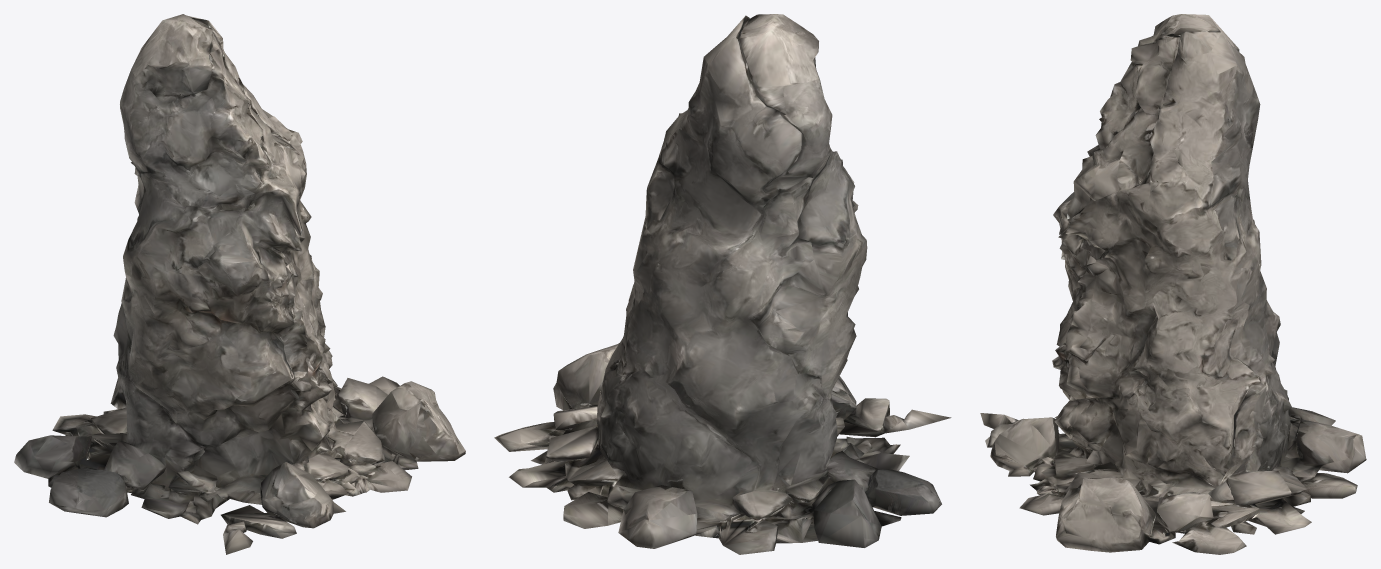
The model's file is pinnacle_a_lod1.glb.
The picture shows the model from 3 angles, left to right: view 1: azimuth 30°, elevation 25°; view 2: azimuth 150°, elevation 25°; view 3: azimuth 270°, elevation 25°; orthographic projection. The views are drawn at different scales.
Parts seen in each view (by area): view 1: pinnacle_a_lod1; view 2: pinnacle_a_lod1; view 3: pinnacle_a_lod1.
Boxes of the visible parts, left/top/right/bottom form: pinnacle_a_lod1: left=14, top=14, right=465, bottom=554; pinnacle_a_lod1: left=494, top=14, right=951, bottom=554; pinnacle_a_lod1: left=980, top=14, right=1366, bottom=554.
Bounding box in the file's own units: 19.93 × 22.08 × 17.98.
1 material, 1 textured.
